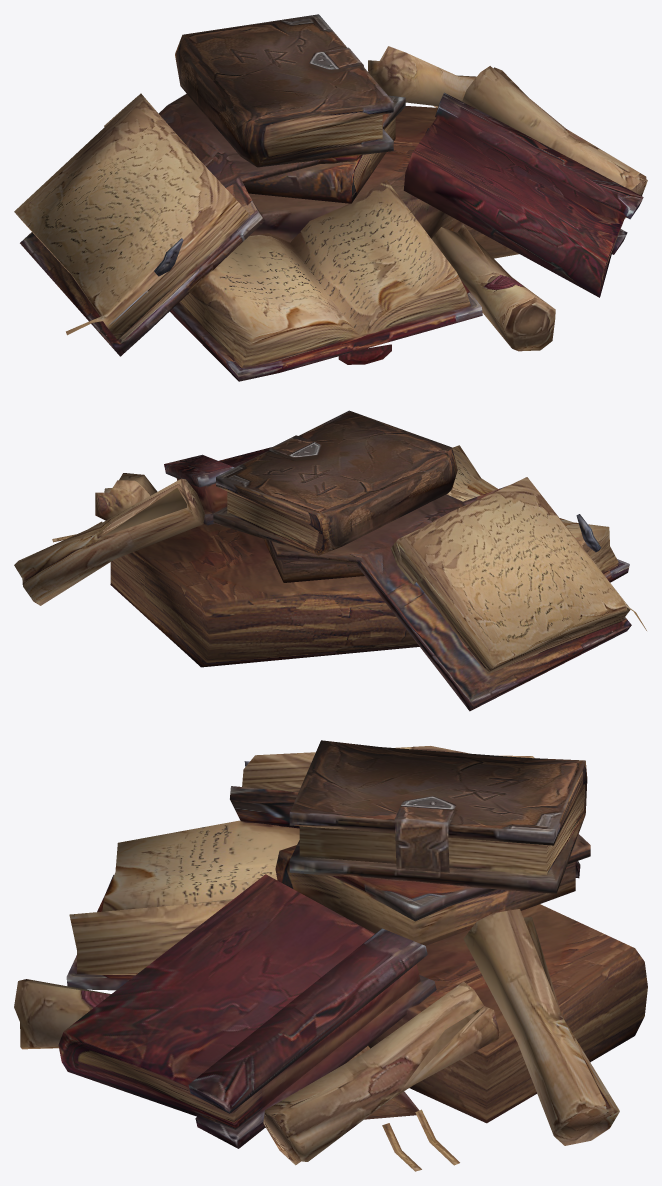
The model's file is libri.fbx.
The picture shows the model from 3 angles, top to bottom: view 1: azimuth 30°, elevation 25°; view 2: azimuth 150°, elevation 25°; view 3: azimuth 270°, elevation 25°; orthographic projection. The views are drawn at different scales.
Parts seen in each view (by area): view 1: tripo_node_140fb294; view 2: tripo_node_140fb294; view 3: tripo_node_140fb294.
Boxes of the visible parts, x1,y1,x2,y2 form: tripo_node_140fb294: [14, 14, 647, 381]; tripo_node_140fb294: [14, 410, 646, 711]; tripo_node_140fb294: [14, 740, 647, 1171].
Bounding box in the file's own units: 0.9995 × 0.2886 × 0.7661.
1 material, 1 textured.
